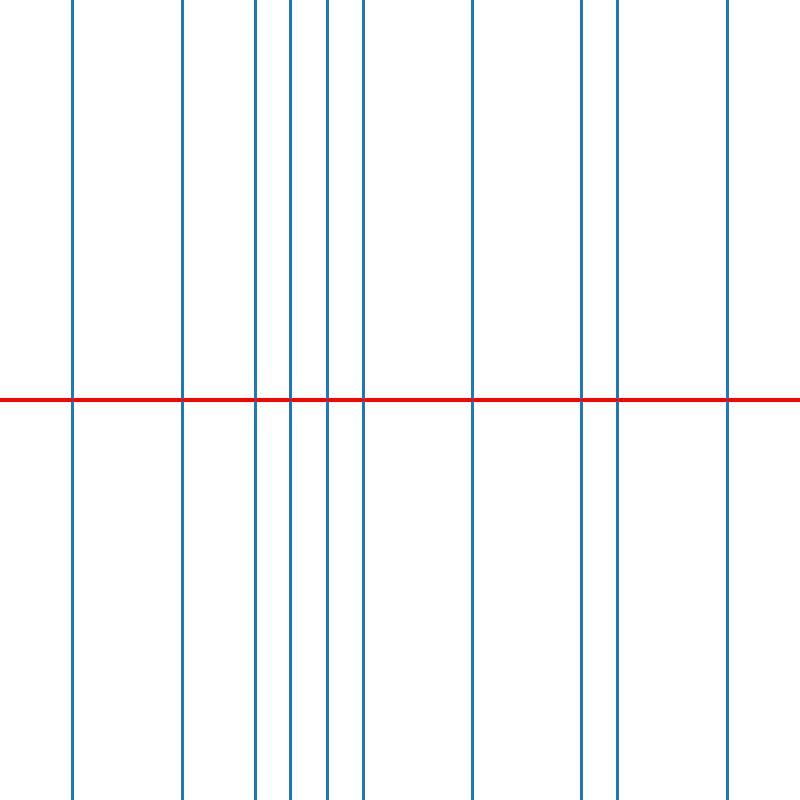root: (250, 396, 258, 404), (723, 396, 730, 404), (287, 396, 294, 404), (469, 396, 476, 404), (323, 396, 330, 404), (578, 396, 585, 404), (614, 396, 621, 404), (360, 396, 367, 404), (69, 396, 76, 404), (178, 396, 185, 404)
